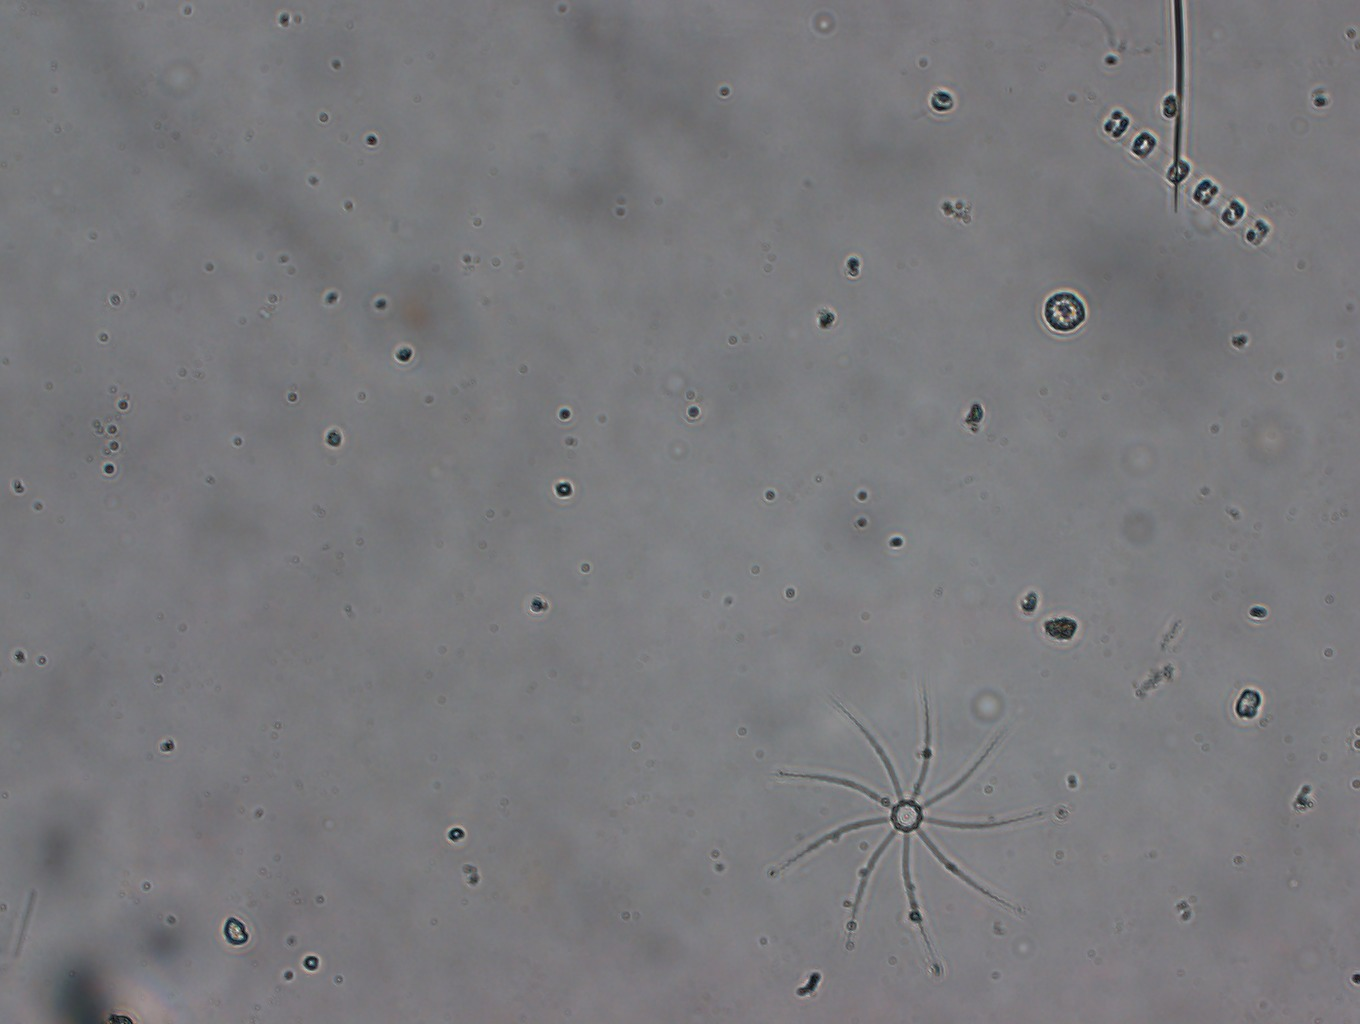bacteriastrum: (760, 675, 1060, 964)
skeletonema: (1100, 105, 1273, 250)
